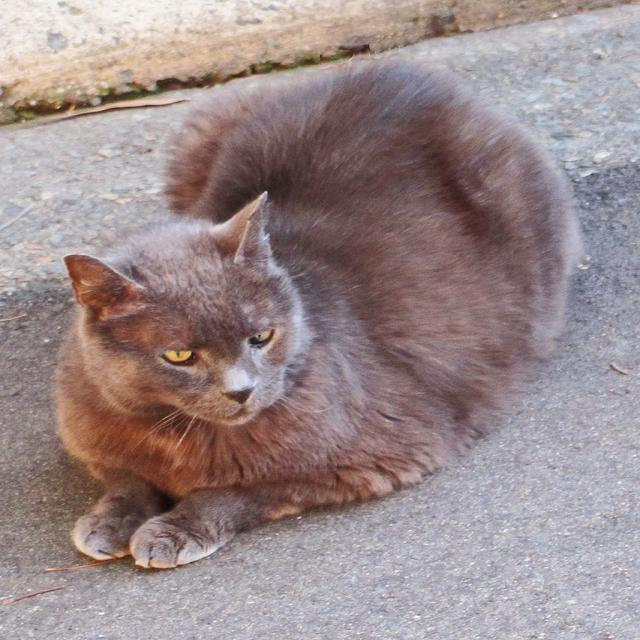Cat: (45, 44, 587, 572)
